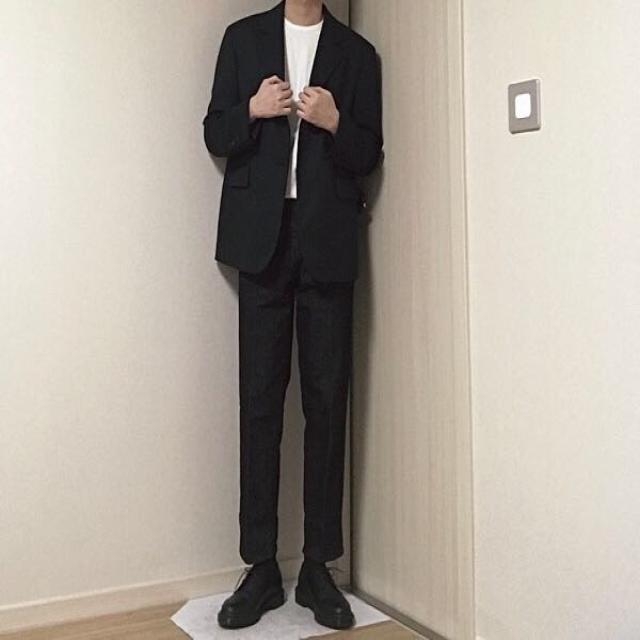blazer: (203, 1, 384, 279)
slacks: (238, 196, 354, 564)
